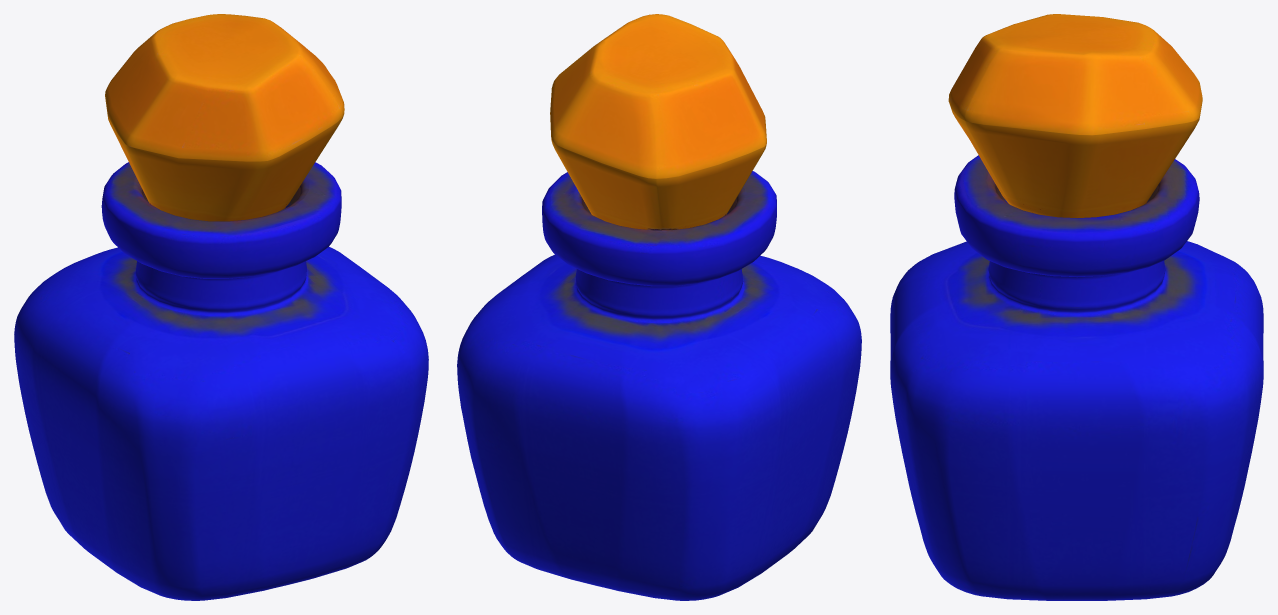
File: weapon_bottle.glb
The picture shows the model from 3 angles, left to right: view 1: azimuth 30°, elevation 25°; view 2: azimuth 150°, elevation 25°; view 3: azimuth 270°, elevation 25°; orthographic projection. The views are drawn at different scales.
Visible parts, largest first — view 1: tripo_node_97c9dc7e-f7e0-4af9-aaaf-51184097ed7e; view 2: tripo_node_97c9dc7e-f7e0-4af9-aaaf-51184097ed7e; view 3: tripo_node_97c9dc7e-f7e0-4af9-aaaf-51184097ed7e.
Part boxes in pixels (bbox=[...]): tripo_node_97c9dc7e-f7e0-4af9-aaaf-51184097ed7e: bbox=[14, 14, 428, 600]; tripo_node_97c9dc7e-f7e0-4af9-aaaf-51184097ed7e: bbox=[457, 14, 861, 600]; tripo_node_97c9dc7e-f7e0-4af9-aaaf-51184097ed7e: bbox=[890, 14, 1263, 600].
Bounding box in the file's own units: 0.644 × 0.9995 × 0.644.
Materials: 1 (1 with a texture image).
